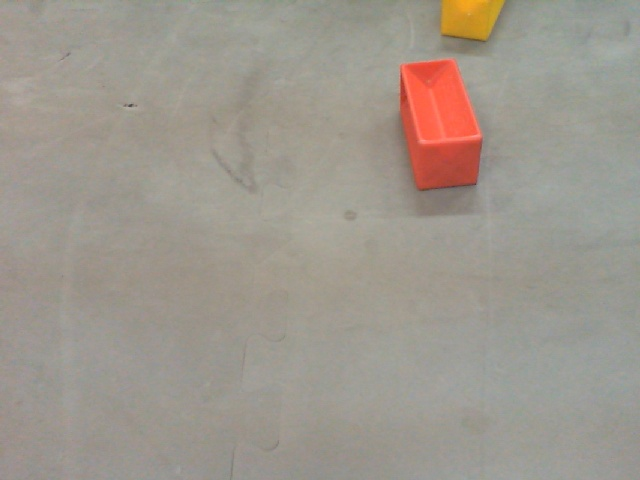RedSample: (396, 58, 486, 190)
YellowSample: (437, 1, 505, 41)
